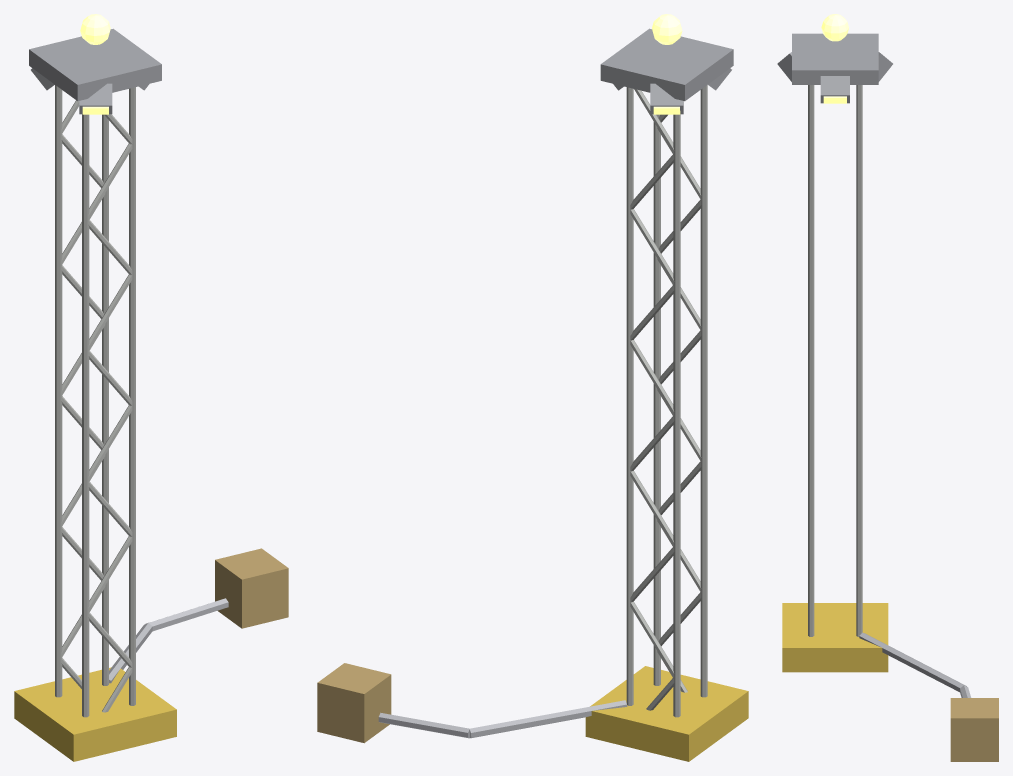
Rendered from extraction_mast.glb.
3 views of the same model, side by side, from view 1: azimuth 30°, elevation 25°; view 2: azimuth 150°, elevation 25°; view 3: azimuth 270°, elevation 25° (orthographic). The views are drawn at different scales.
Visible parts, largest first — view 1: mast_col, mast_foot, mast_head, junction, feed, top, fl2_housing; view 2: mast_col, mast_foot, mast_head, junction, feed, top; view 3: mast_col, mast_foot, mast_head, junction, feed, fl0_housing, top.
Part boxes in pixels (box(x1,y1,x2,y2)): mast_col: box(55, 85, 135, 717); mast_foot: box(14, 667, 176, 761); mast_head: box(29, 28, 161, 101); junction: box(215, 548, 288, 628); feed: box(109, 598, 228, 683); top: box(80, 14, 110, 44); fl2_housing: box(79, 83, 112, 114); mast_col: box(626, 85, 707, 717); mast_foot: box(585, 666, 748, 761); mast_head: box(600, 28, 733, 101); junction: box(317, 663, 391, 743); feed: box(378, 700, 627, 738); top: box(652, 14, 682, 44); mast_col: box(808, 85, 862, 636); mast_foot: box(782, 603, 888, 672); mast_head: box(792, 33, 878, 84); junction: box(950, 698, 998, 761); feed: box(859, 632, 971, 697); fl0_housing: box(820, 76, 849, 103); top: box(821, 14, 849, 41).
Bounding box in the file's own units: 5.94 × 13.09 × 4.13.
